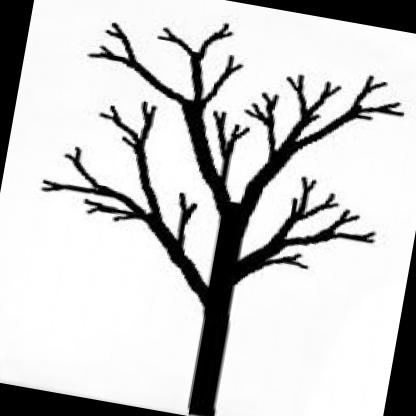trunk_straight: (184, 309, 236, 413)
